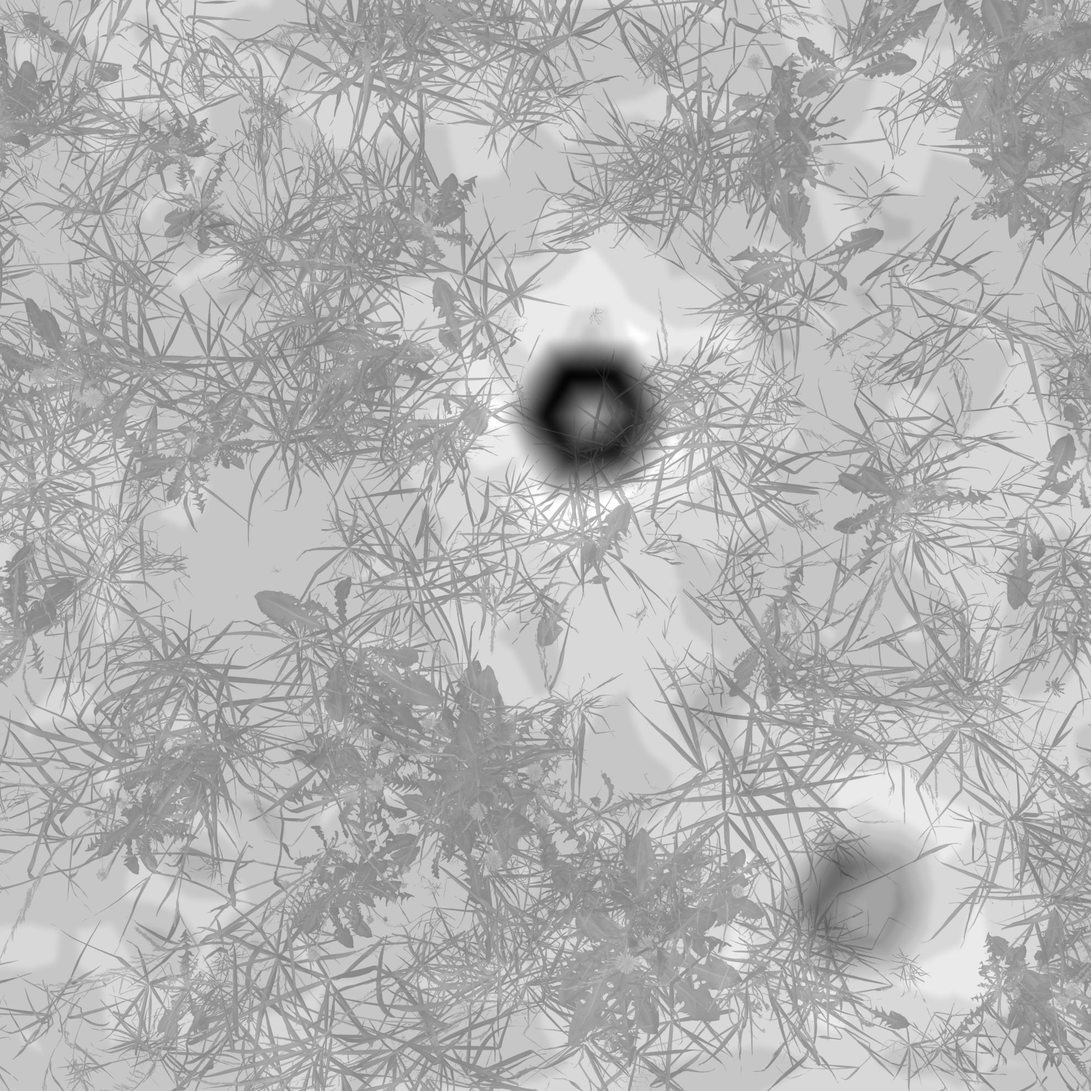landmine: (511, 333, 658, 491), (791, 824, 937, 967)
